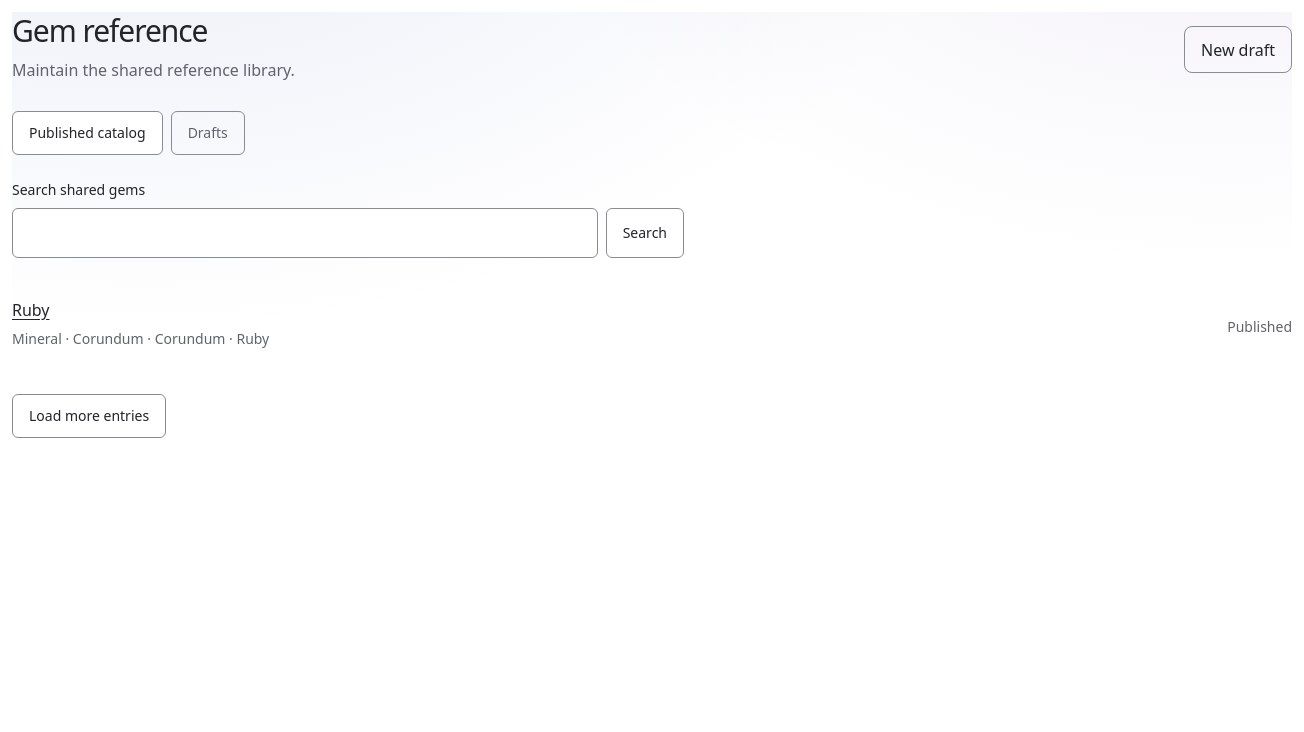
Test: shared catalog › retains loaded rows and retries the same continuation after a page failure
Expected: the link "Ruby" is shown, [12,299,50,321]
Click the button "Load more entries": (89, 416) [12,394,166,438]
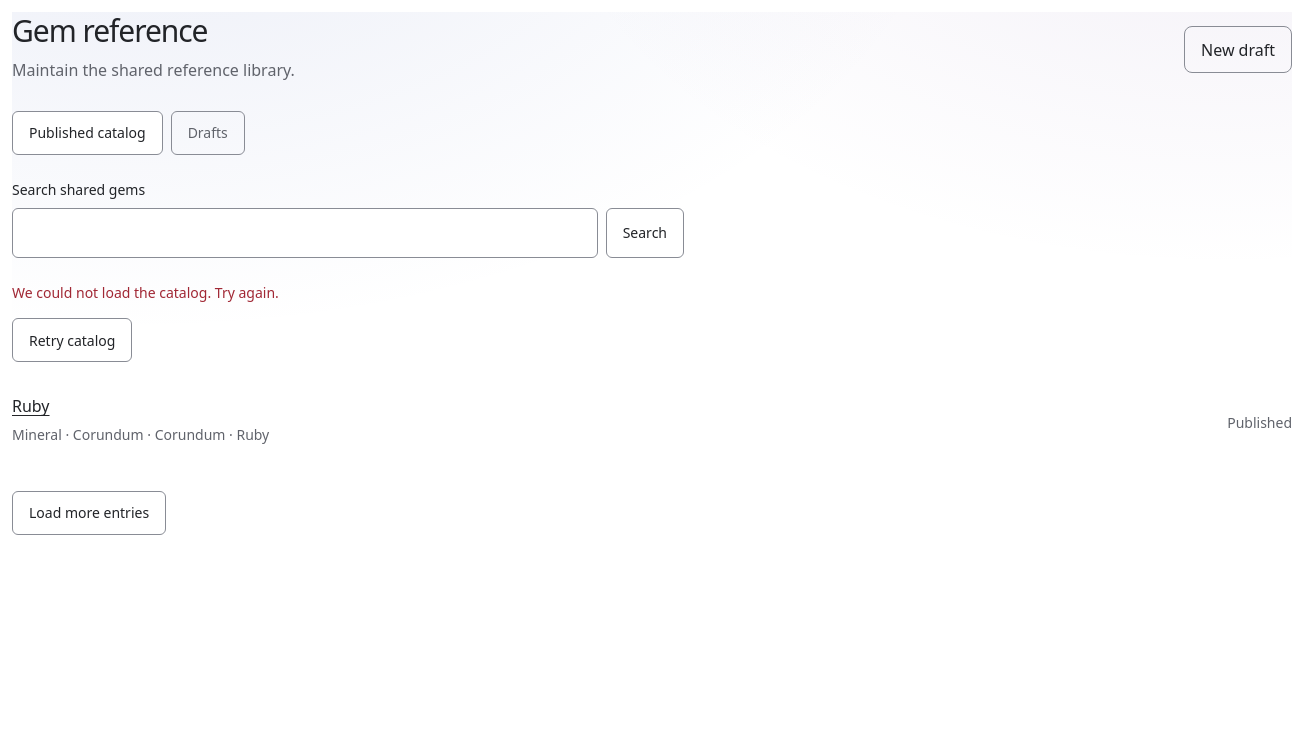
Expected: the link "Ruby" is shown, [12,396,50,418]
Now the message "We could not load the catalog. Try again." is shown, box [12,283,279,302]
// WHEN retrying THEN the same cursor appends the next page exactly once.
Click the button "Retry catalog": (72, 340) [12,318,132,362]
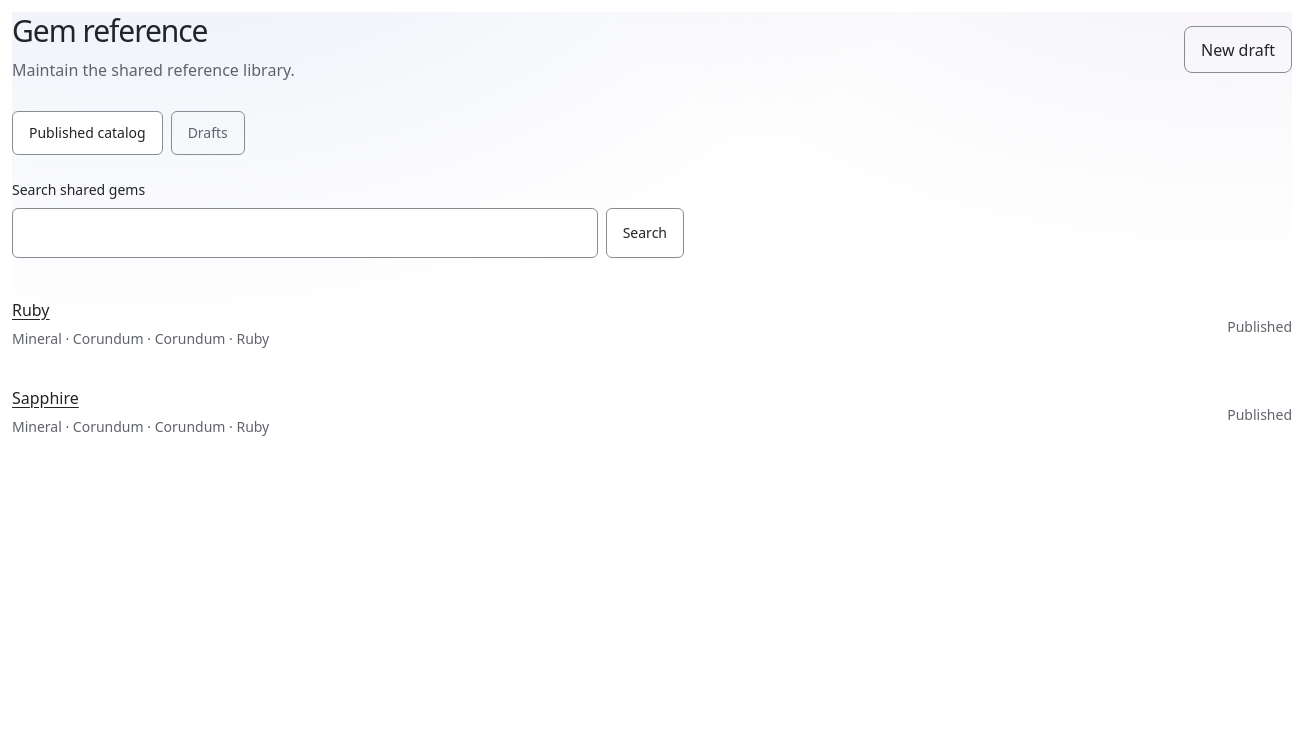
Now the number of links "Ruby" is 1, box [12,299,50,321]
Now the number of links "Sapphire" is 1, box [12,387,79,409]
